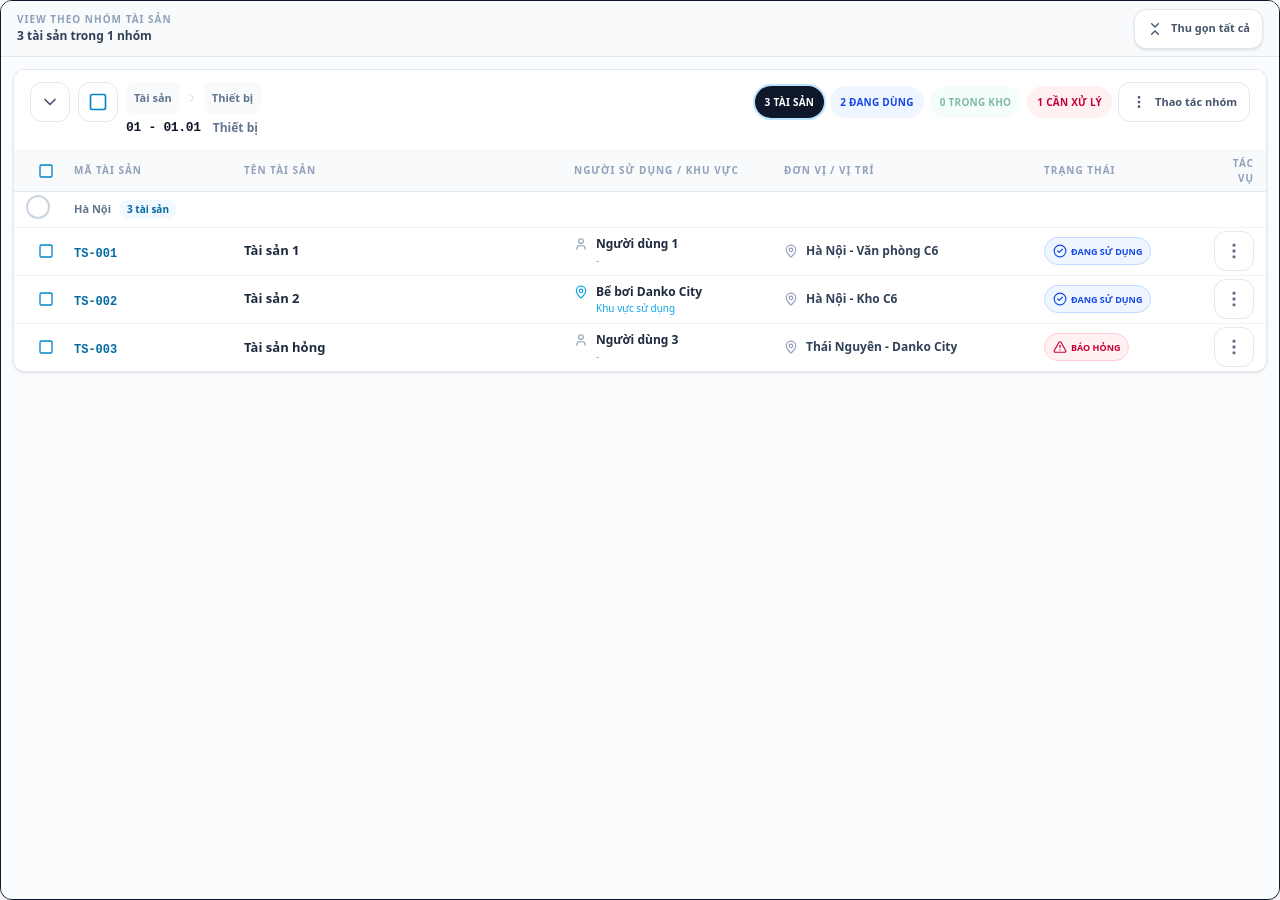
Test case: AssetGroupedView › uses a separate group selector to select all assets in a category
Click the button named "Chọn nhóm tài sản Hà Nội": x=38, y=207 left=26, top=195, right=50, bottom=219
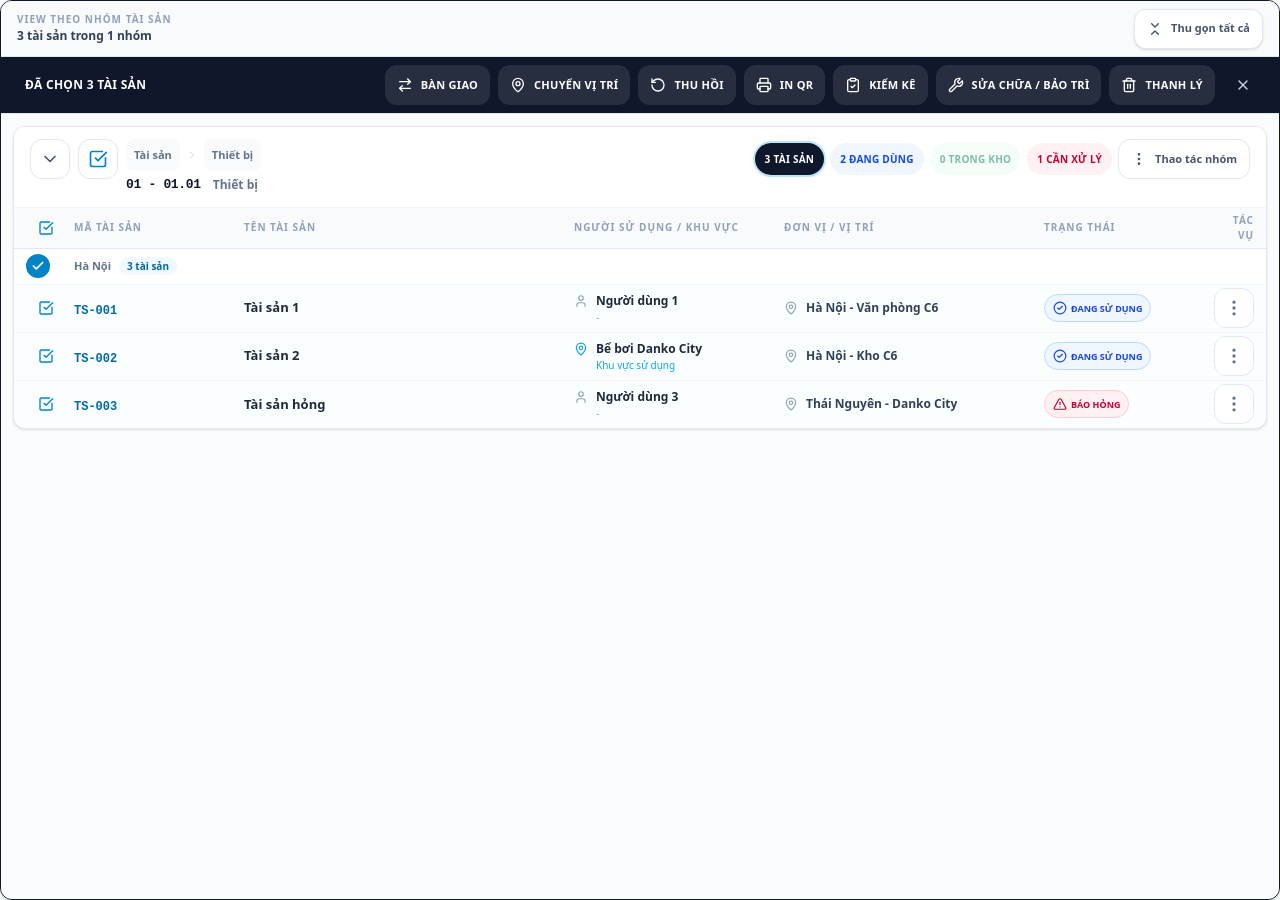
Check: the button titled "Đi tới tài sản cuối cùng đã chọn" shows "3 tài sản", box left=17, top=65, right=154, bottom=105
Check: the button named "Bỏ chọn nhóm tài sản Hà Nội" is shown, box left=26, top=254, right=50, bottom=278
Check: the button named "Bỏ chọn TS-001" is shown, box left=26, top=288, right=66, bottom=328
